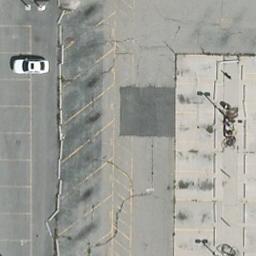car: (13, 60, 50, 74)
